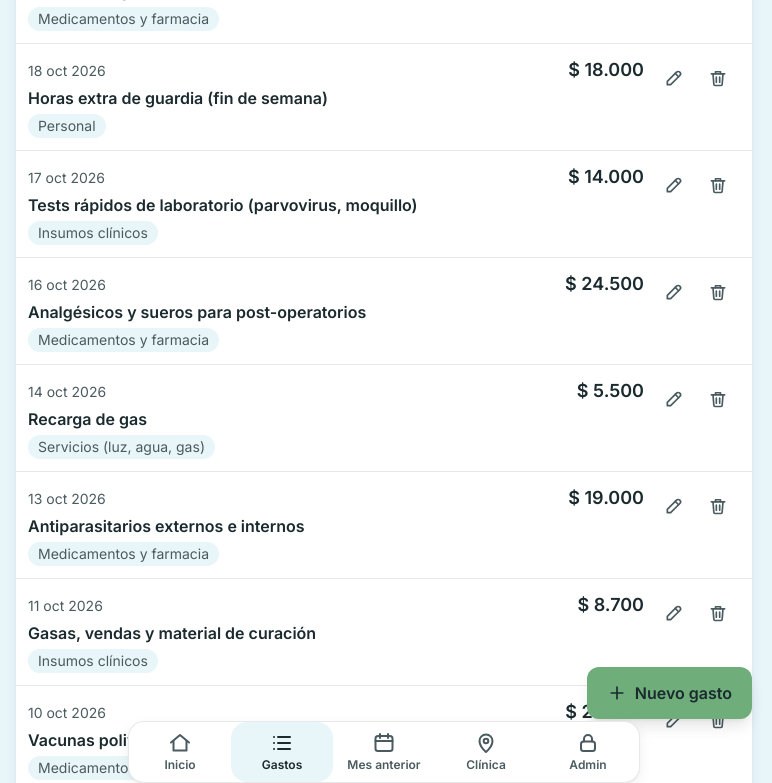
it: Editing and deleting › moves the amount between categories when the category is edited
This screenshot has width=772, height=783.
(page scrolled)
Click the button named "Editar gasto: Recarga de gas" at [674, 399], box left=652, top=377, right=696, bottom=421
(page scrolled)
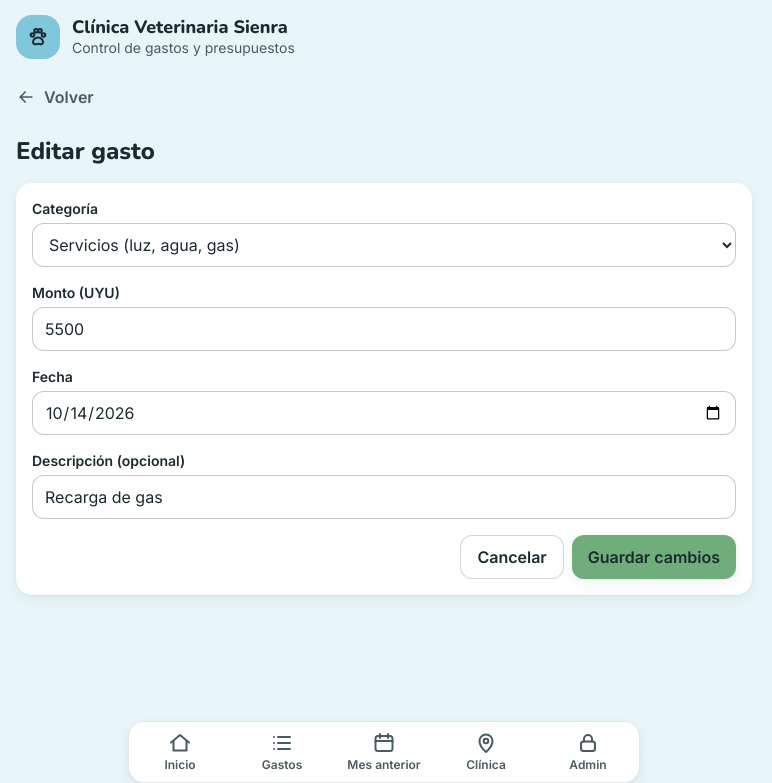
Now the heading "Editar gasto" is shown, box left=16, top=135, right=155, bottom=167
Now the field labelled "Monto (UYU)" holds "5500", box left=32, top=307, right=736, bottom=351
Select "Personal" in the dropdown labelled "Categoría" at [384, 245], box left=32, top=223, right=736, bottom=267
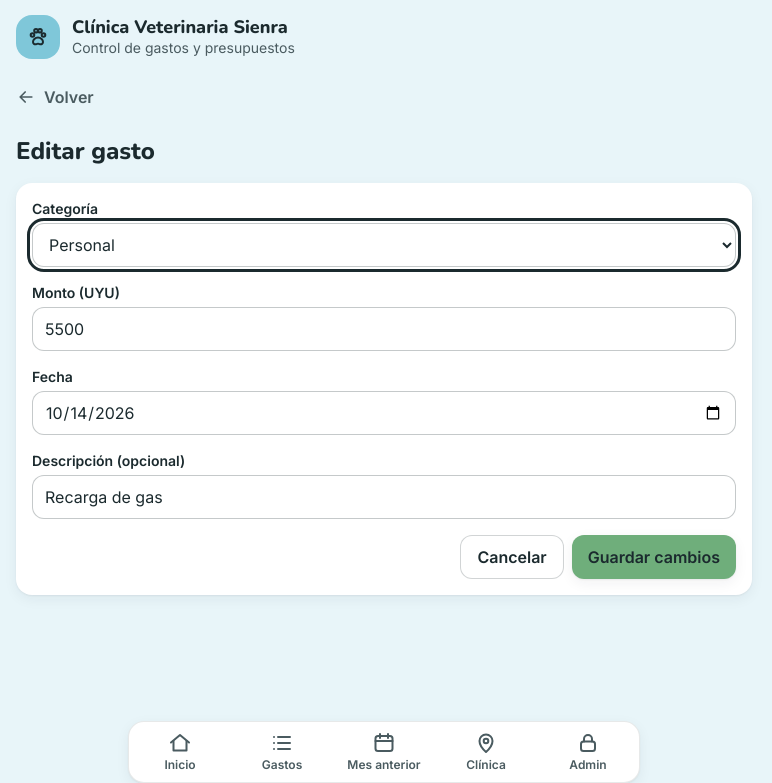
Click the button "Guardar cambios" at [654, 557], box left=572, top=535, right=736, bottom=579
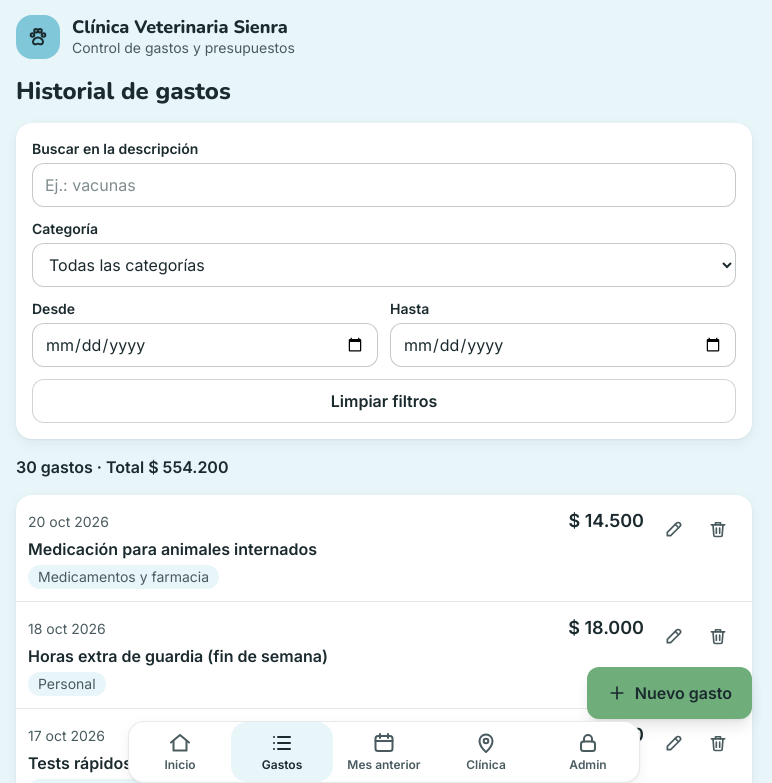
Click the link "Inicio" at [180, 752], box left=164, top=731, right=196, bottom=772
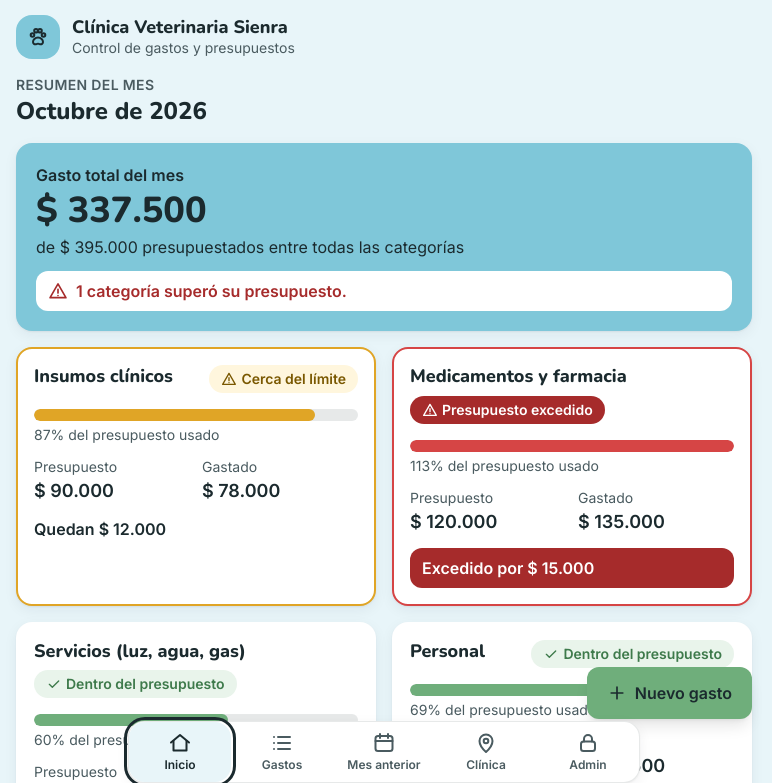
Now the text with test id "month-total" reads "$ 337.500", box left=36, top=186, right=207, bottom=235
Now the text "$ 103.500" is shown, box left=578, top=754, right=665, bottom=776
